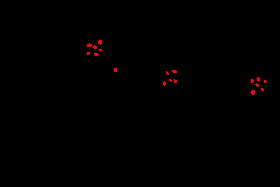Target: (98, 40, 102, 45), (87, 43, 92, 47), (251, 90, 255, 95), (93, 45, 97, 49), (255, 83, 259, 87), (94, 53, 99, 56), (172, 70, 177, 73), (257, 77, 260, 82), (163, 81, 166, 86), (114, 68, 117, 72), (166, 71, 169, 75), (174, 79, 177, 83), (251, 79, 254, 83), (87, 52, 90, 55), (169, 79, 172, 82), (264, 80, 267, 83), (261, 88, 264, 91), (99, 49, 102, 51)
